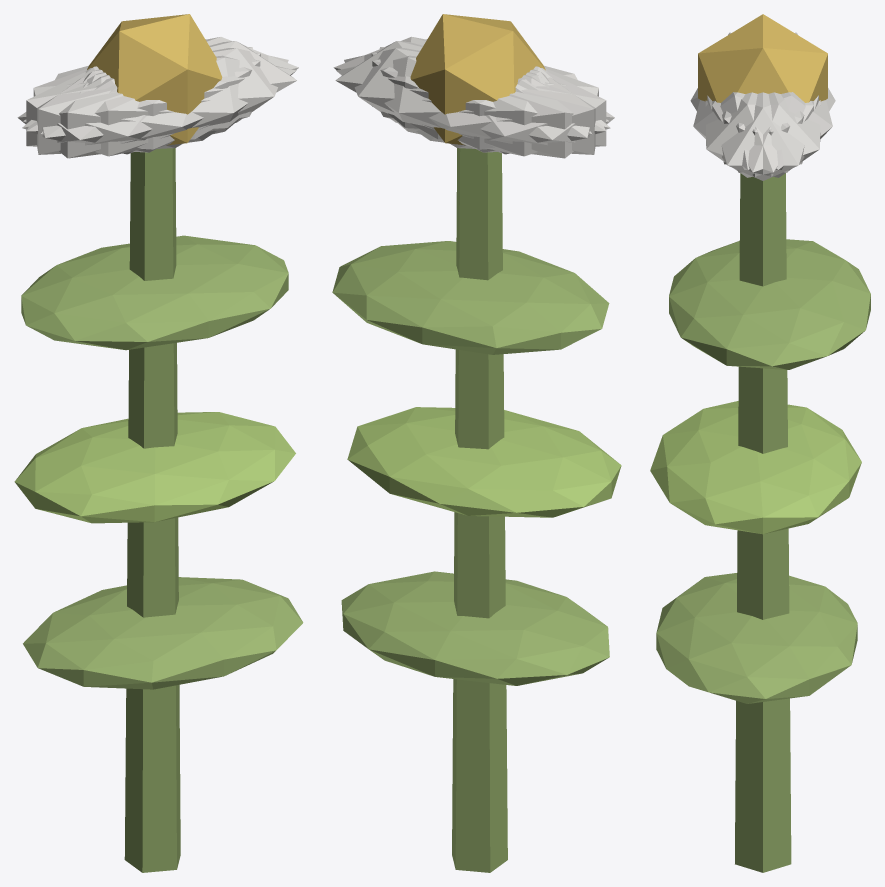
Rendered from typhonium-blumei.glb.
3 renders of one model, left to right at view 1: azimuth 30°, elevation 25°; view 2: azimuth 150°, elevation 25°; view 3: azimuth 270°, elevation 25°, orthographic.
Parts seen in each view (by area): view 1: stem, leaf1, leaf0, leaf2, center, petal1, petal6, petal2, petal5, petal7, petal0, petal4 (+2 smaller); view 2: stem, leaf2, leaf1, leaf0, center, petal8, petal3, petal7, petal4, petal2, petal0, petal5 (+2 smaller); view 3: stem, leaf2, leaf1, leaf0, center, petal0, petal4, petal5, petal1, petal8.
Boxes of the visible parts, x1=… form: stem: x1=124, y1=148, x2=180, y2=872; leaf1: x1=14, y1=412, x2=295, y2=523; leaf0: x1=23, y1=577, x2=303, y2=689; leaf2: x1=21, y1=235, x2=288, y2=350; center: x1=87, y1=14, x2=222, y2=145; petal1: x1=22, y1=55, x2=296, y2=156; petal6: x1=17, y1=68, x2=216, y2=158; petal2: x1=37, y1=47, x2=252, y2=154; petal5: x1=40, y1=48, x2=288, y2=149; petal7: x1=26, y1=52, x2=260, y2=152; petal0: x1=86, y1=41, x2=296, y2=139; petal4: x1=23, y1=37, x2=298, y2=131; stem: x1=452, y1=148, x2=507, y2=872; leaf2: x1=332, y1=241, x2=609, y2=354; leaf1: x1=347, y1=407, x2=621, y2=517; leaf0: x1=341, y1=571, x2=609, y2=685; center: x1=410, y1=14, x2=545, y2=145; petal8: x1=336, y1=55, x2=610, y2=156; petal3: x1=416, y1=68, x2=614, y2=158; petal7: x1=379, y1=47, x2=595, y2=154; petal4: x1=344, y1=48, x2=591, y2=149; petal2: x1=371, y1=52, x2=606, y2=152; petal0: x1=335, y1=41, x2=545, y2=139; petal5: x1=333, y1=36, x2=609, y2=131; stem: x1=735, y1=173, x2=791, y2=872; leaf2: x1=669, y1=239, x2=870, y2=369; leaf1: x1=650, y1=401, x2=861, y2=534; leaf0: x1=656, y1=573, x2=857, y2=703; center: x1=698, y1=14, x2=827, y2=102; petal0: x1=707, y1=92, x2=818, y2=180; petal4: x1=712, y1=92, x2=820, y2=177; petal5: x1=705, y1=92, x2=813, y2=177; petal1: x1=693, y1=92, x2=804, y2=169; petal8: x1=722, y1=92, x2=832, y2=170.
Size of the model in its own units: 0.1452 by 0.4308 by 0.1039.
